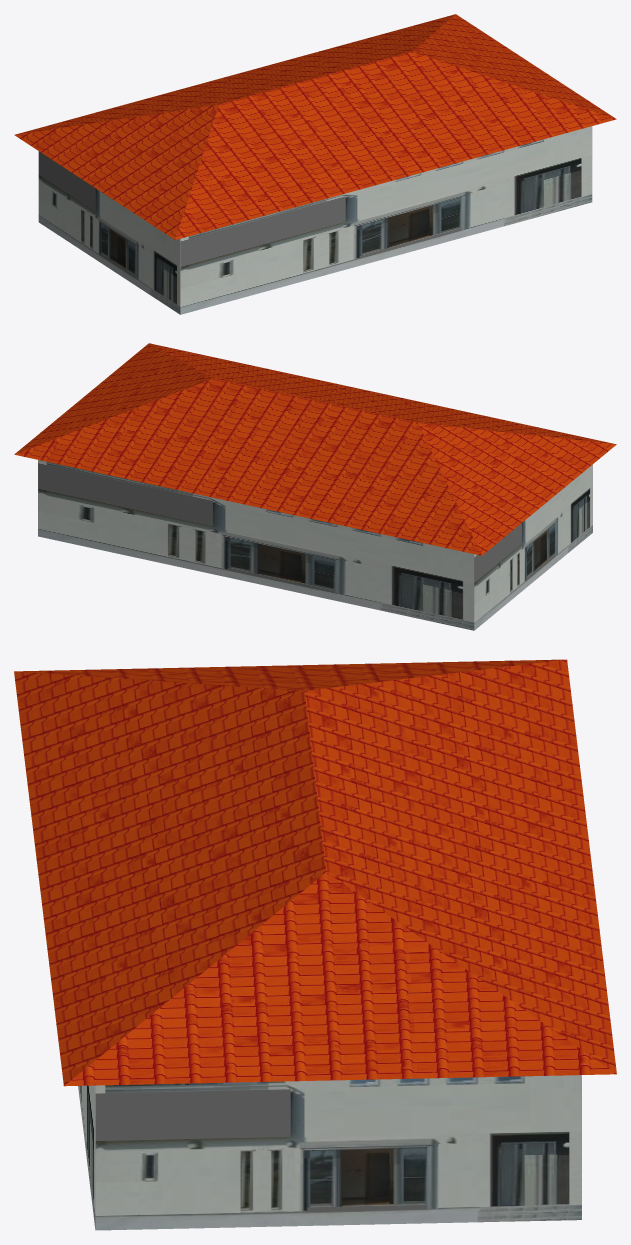
3 views of the same model, one above another, from view 1: azimuth 30°, elevation 25°; view 2: azimuth 150°, elevation 25°; view 3: azimuth 270°, elevation 25° (orthographic). The views are drawn at different scales.
Visible parts, largest first — view 1: CityEngineMaterial_12_m, CityEngineMaterial_11_m; view 2: CityEngineMaterial_12_m, CityEngineMaterial_11_m; view 3: CityEngineMaterial_12_m, CityEngineMaterial_11_m.
Boxes of the visible parts, left/top/right/bottom form: CityEngineMaterial_12_m: left=14, top=14, right=616, bottom=239; CityEngineMaterial_11_m: left=38, top=126, right=592, bottom=314; CityEngineMaterial_12_m: left=14, top=343, right=616, bottom=555; CityEngineMaterial_11_m: left=38, top=460, right=592, bottom=630; CityEngineMaterial_12_m: left=14, top=659, right=616, bottom=1086; CityEngineMaterial_11_m: left=78, top=1075, right=581, bottom=1230.
Bounding box in the file's own units: 28.5 × 7.8 × 17.02.
